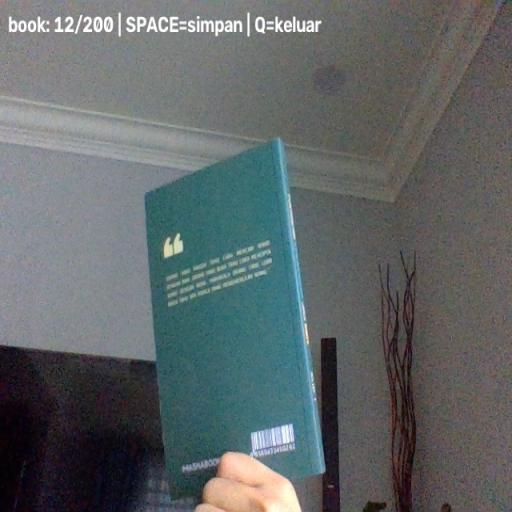Book: (144, 138, 326, 500)
